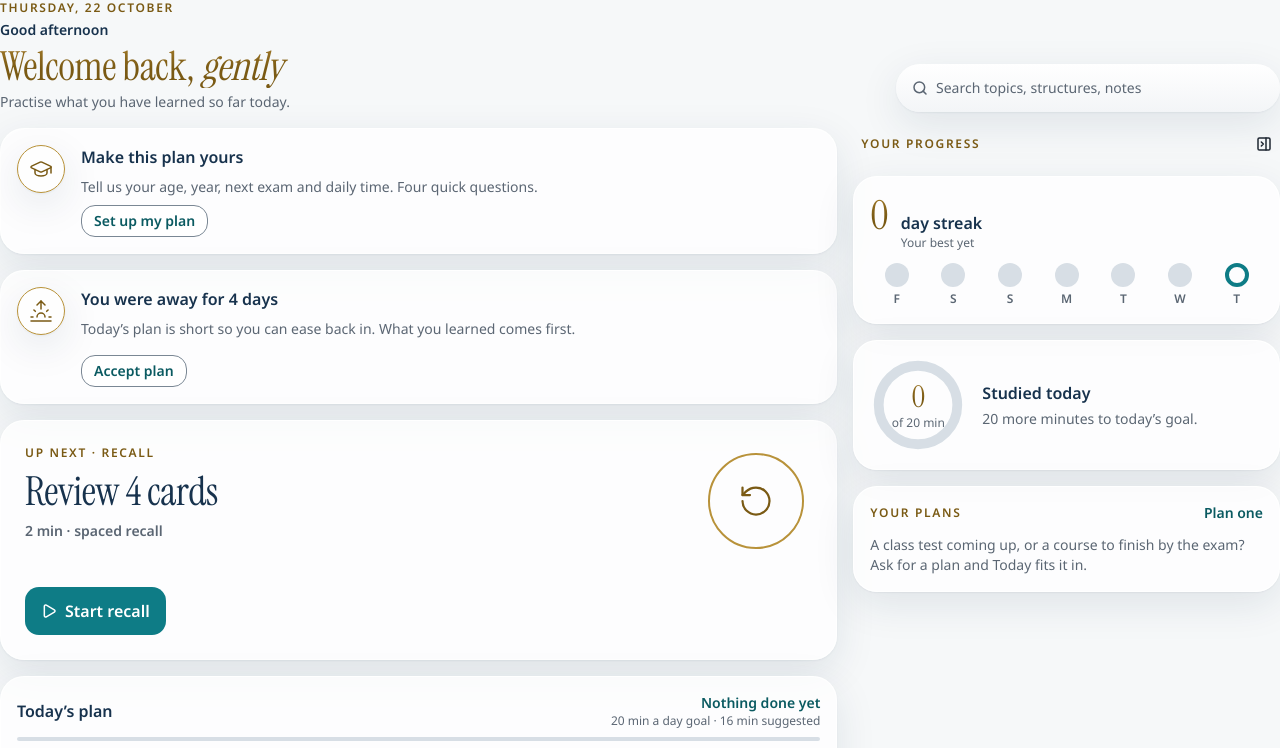
Test: TodayView › welcomes a student back after missed days with a capped plan to accept
The image size is (1280, 748).
Check: the heading "You were away for 4 days" is shown, box [81,288,278,310]
Click the button "Accept plan" at point(134, 371), box [81,355,187,387]
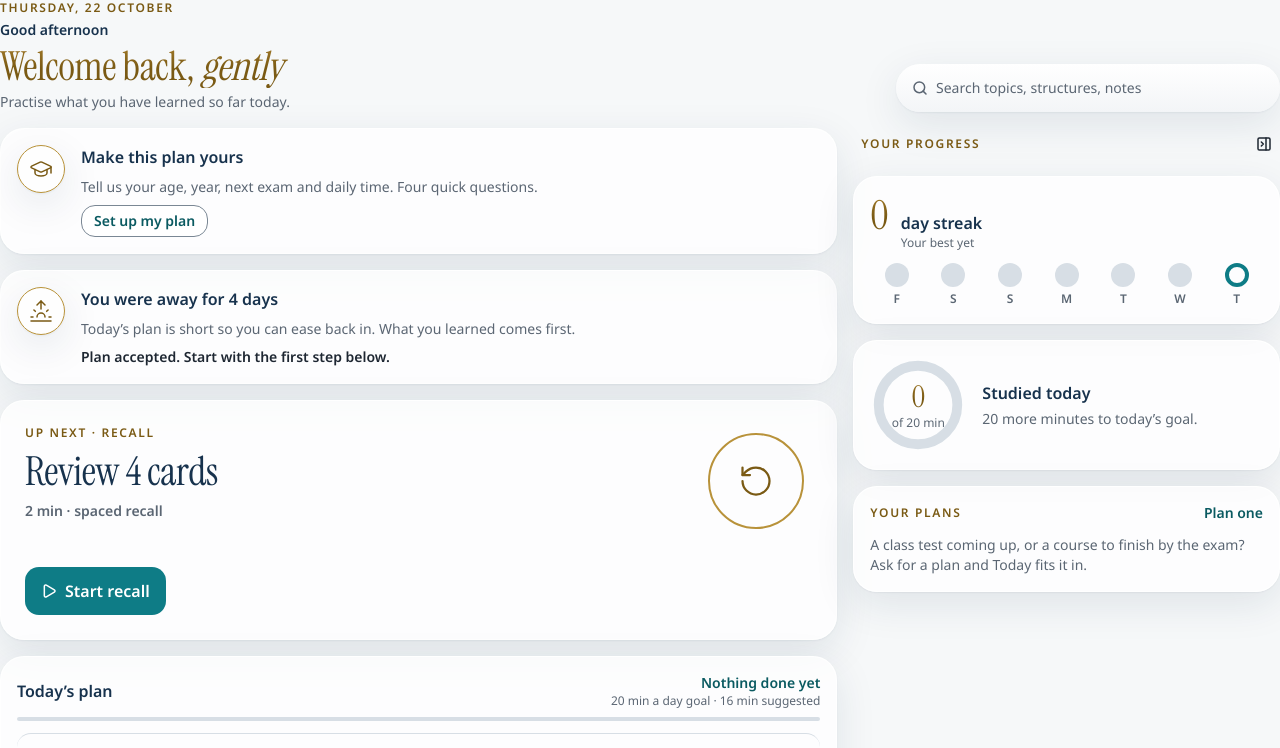
Check: the text "Plan accepted. Start with the first step below." is shown, box [81,347,390,366]
